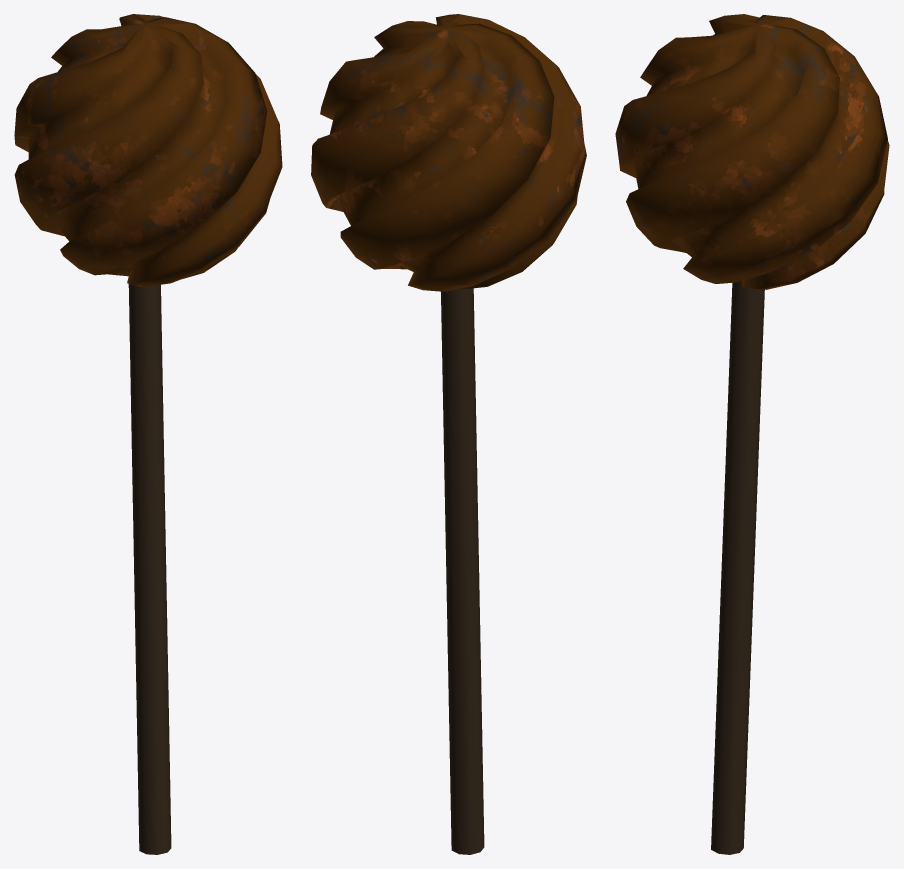
The model's file is bombon arbol 3.fbx.
3 views of the same model, side by side, from view 1: azimuth 30°, elevation 25°; view 2: azimuth 150°, elevation 25°; view 3: azimuth 270°, elevation 25° (orthographic). The views are drawn at different scales.
Parts seen in each view (by area): view 1: Sphere.101; view 2: Sphere.101; view 3: Sphere.101.
Boxes of the visible parts, x1=… form: Sphere.101: x1=14, y1=14, x2=282, y2=854; Sphere.101: x1=311, y1=14, x2=586, y2=854; Sphere.101: x1=615, y1=14, x2=889, y2=854.
Size of the model in its own units: 158 by 524 by 158.
